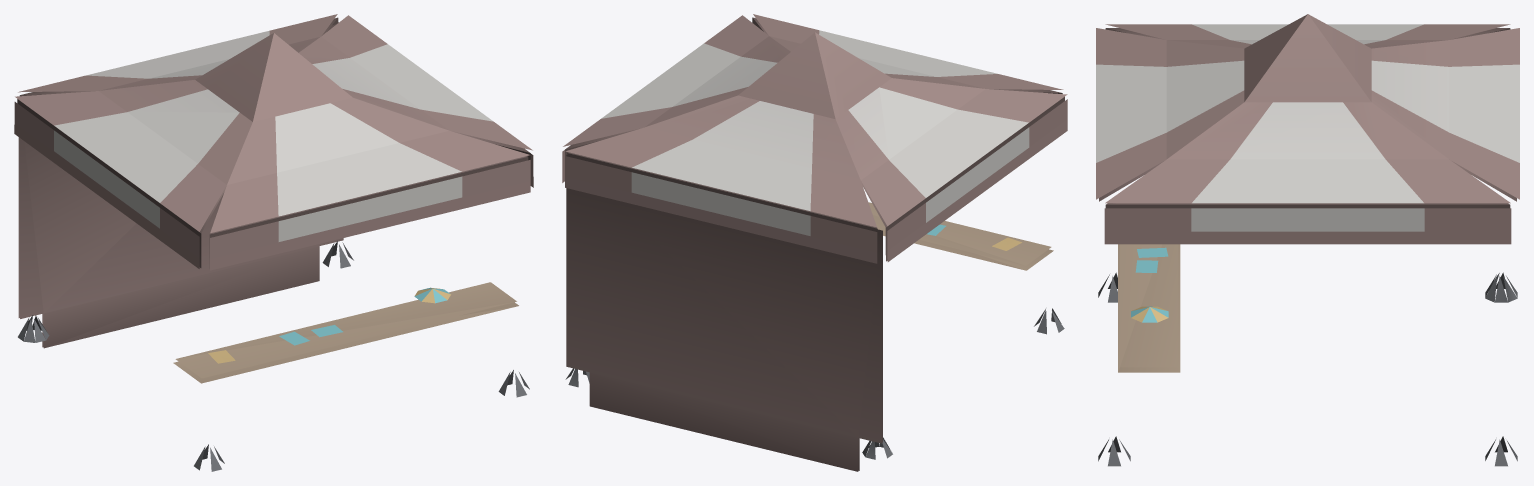
The model's file is stall.lod.glb.
3 views of the same model, side by side, from view 1: azimuth 30°, elevation 25°; view 2: azimuth 150°, elevation 25°; view 3: azimuth 270°, elevation 25° (orthographic). The views are drawn at different scales.
Parts seen in each view (by area): view 1: stall.001; view 2: stall.001; view 3: stall.001.
Boxes of the visible parts, box(x1,y1,x2,y2) form: stall.001: box(14, 14, 533, 471); stall.001: box(562, 14, 1067, 471); stall.001: box(1096, 14, 1519, 466).
Size of the model in its own units: 3 by 3 by 3.
